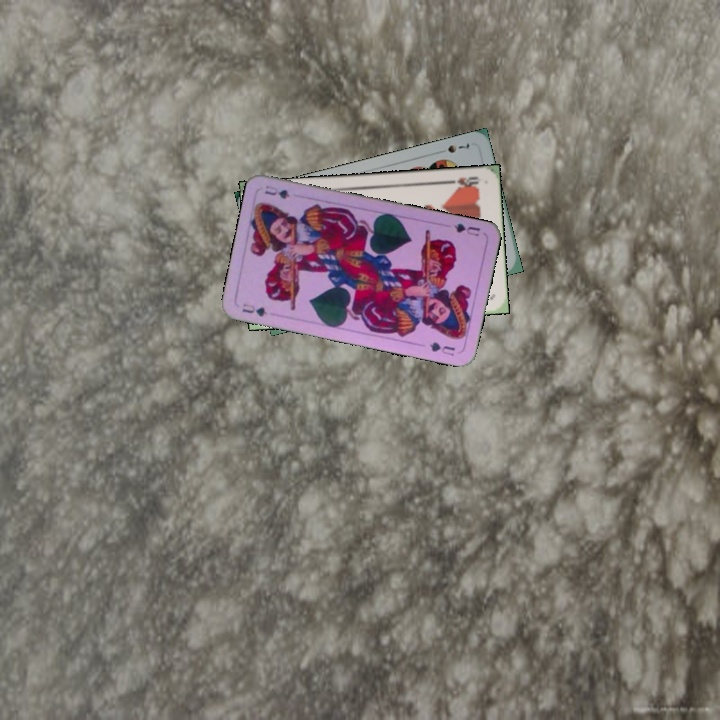GU: (450, 219, 482, 239), (238, 299, 270, 319)
HO: (443, 172, 481, 190)
S7: (434, 138, 472, 156)
